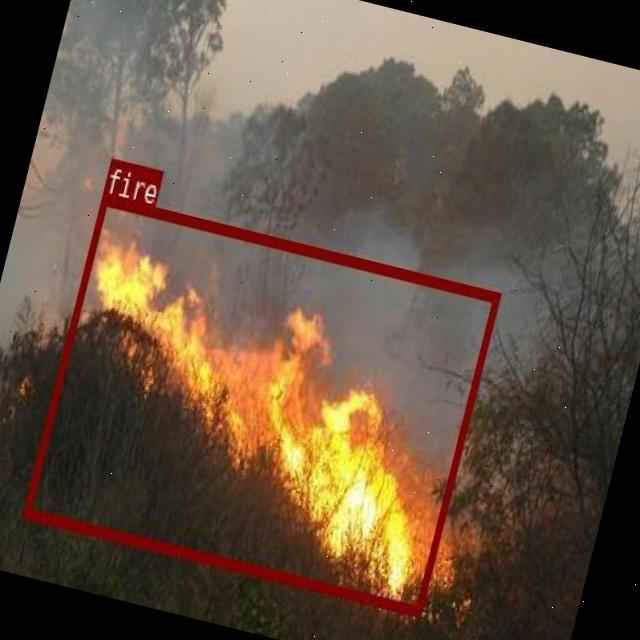fire: (21, 192, 500, 614)
